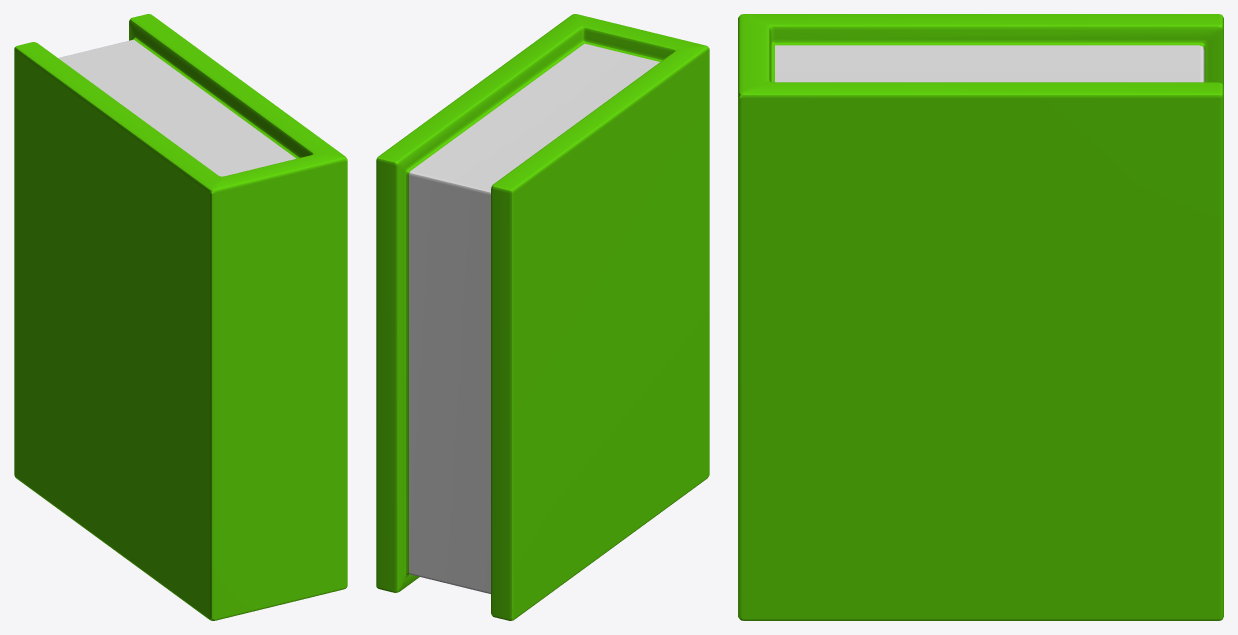
The model's file is GreenBook.fbx.
3 views of the same model, side by side, from view 1: azimuth 30°, elevation 25°; view 2: azimuth 150°, elevation 25°; view 3: azimuth 270°, elevation 25° (orthographic). The views are drawn at different scales.
Visible parts, largest first — view 1: pCube20; view 2: pCube20; view 3: pCube20.
Part boxes in pixels (x1=…): pCube20: x1=14, y1=14, x2=347, y2=620; pCube20: x1=376, y1=14, x2=709, y2=620; pCube20: x1=738, y1=14, x2=1223, y2=620.
Bounding box in the file's own units: 0.6 × 1.8 × 1.5.
